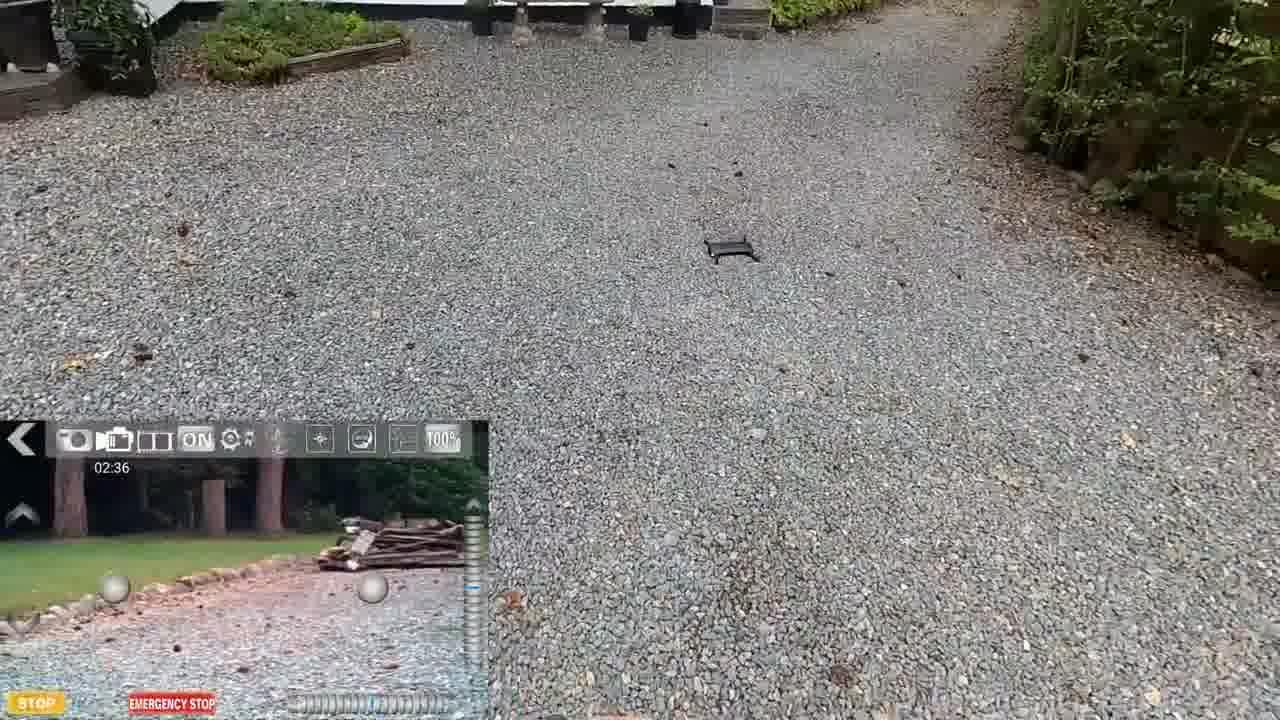drone: (696, 231, 768, 262)
